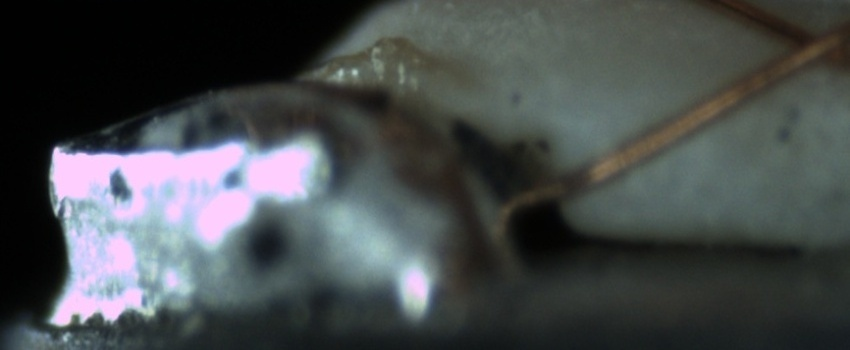CL: (766, 11, 846, 75)
